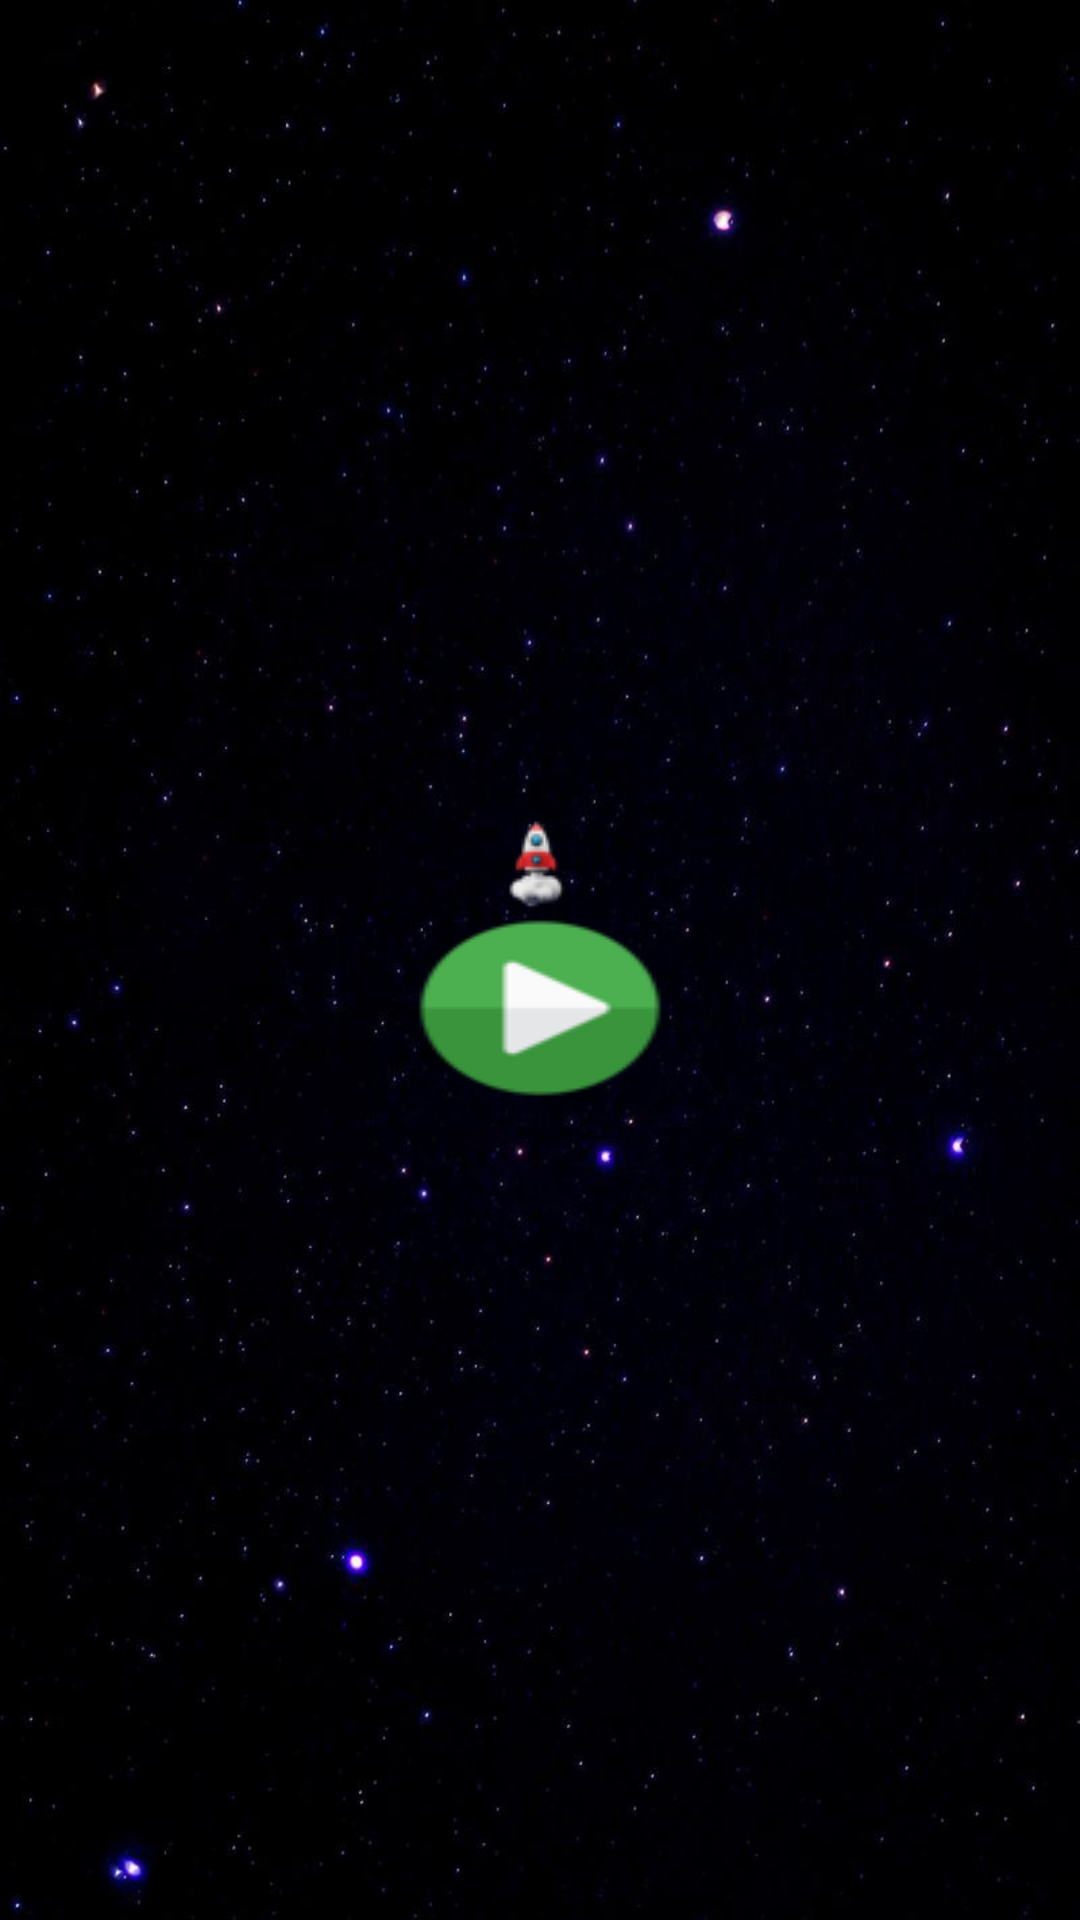

Icons on this 1080x1920 Android screen, each with the point to tap as point (x, y):
play: point (542, 1004)
rocket: point (545, 864)
